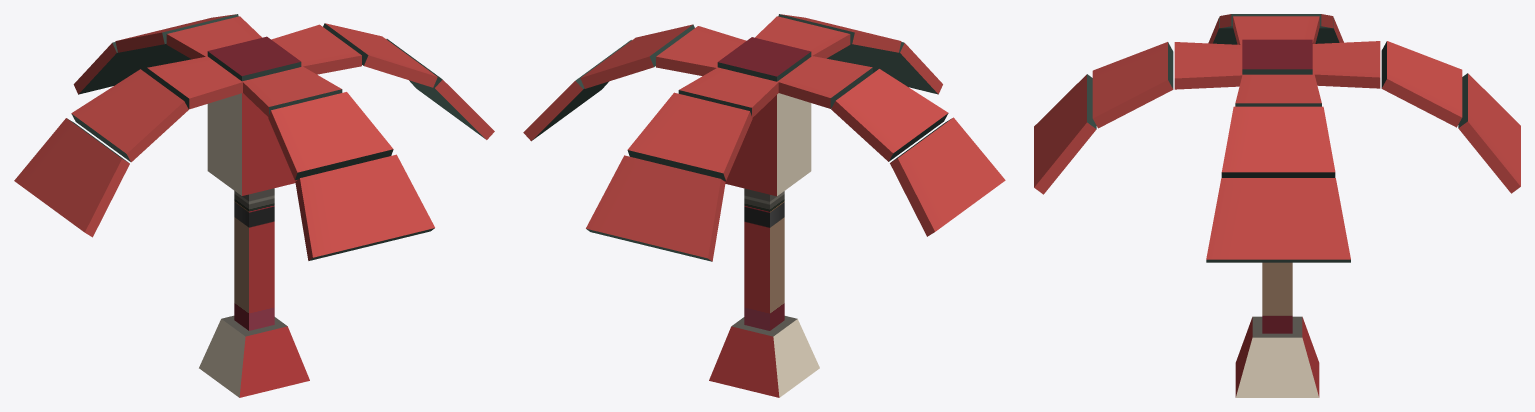
Rendered from SM_Env_Palm_01.gltf.
The picture shows the model from 3 angles, left to right: view 1: azimuth 30°, elevation 25°; view 2: azimuth 150°, elevation 25°; view 3: azimuth 270°, elevation 25°; orthographic projection. The views are drawn at different scales.
Visible parts, largest first — view 1: SM_Env_Palm_01; view 2: SM_Env_Palm_01; view 3: SM_Env_Palm_01.
Boxes of the visible parts, x1,y1,x2,y2 form: SM_Env_Palm_01: (14, 14, 494, 397); SM_Env_Palm_01: (523, 14, 1005, 397); SM_Env_Palm_01: (1034, 14, 1520, 397).
Bounding box in the file's own units: 6.22 × 4.59 × 6.22.
1 material, 1 textured.
